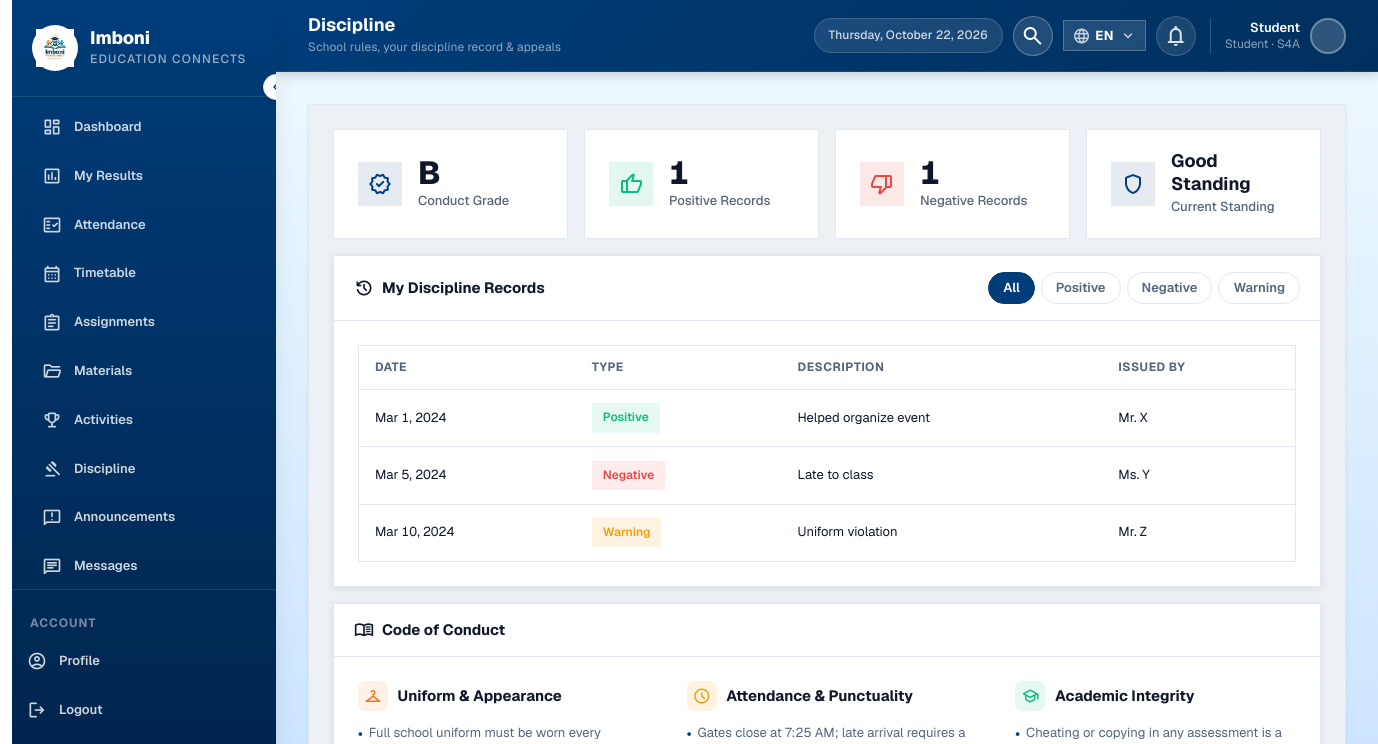
StudentDiscipline › filters records by type when a filter tab is clicked
This screenshot has width=1378, height=744.
expect the text "Helped organize event" is shown: met, box [782, 389, 1102, 447]
Step 1. Click the button "Positive" → {"x": 1081, "y": 288}, box [1041, 272, 1121, 304]
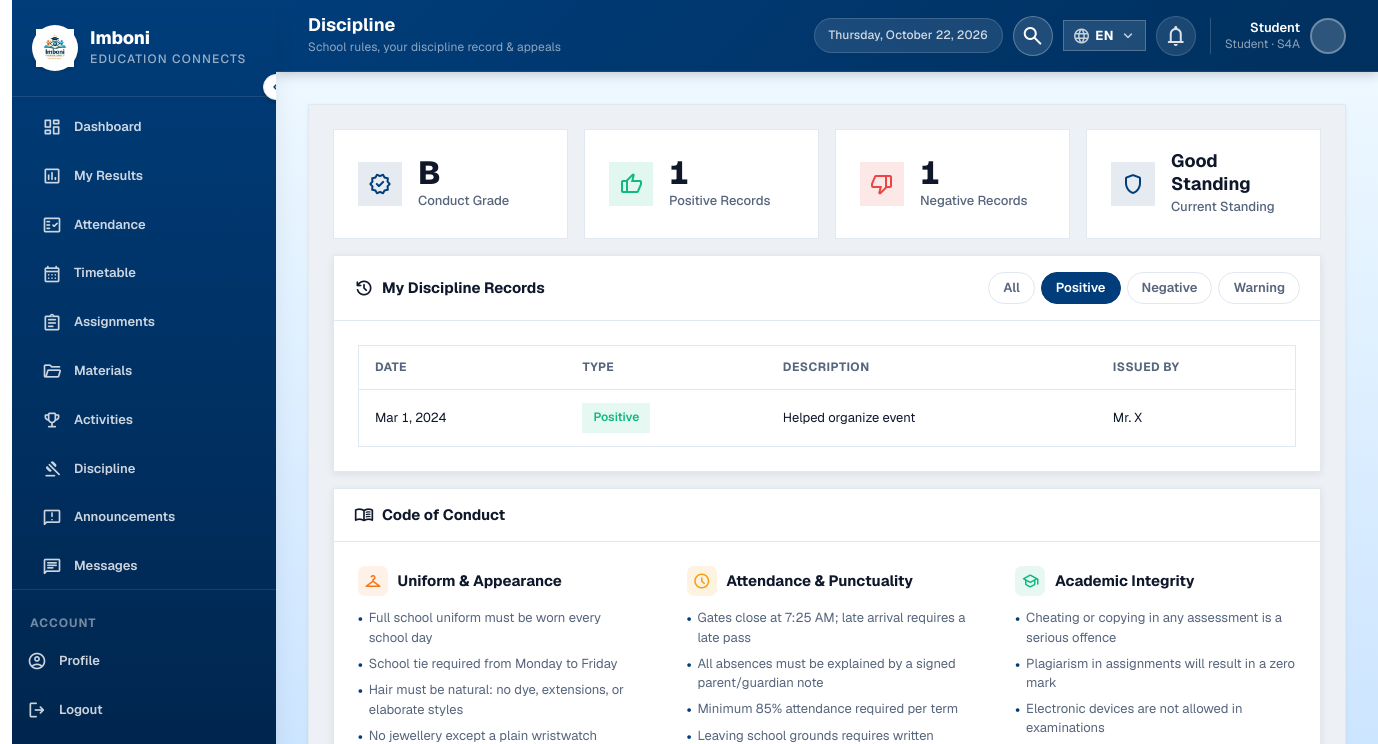
expect the text "Helped organize event" is shown: met, box [767, 389, 1097, 446]
expect the text "Late to class" is gone: met
expect the text "Uniform violation" is gone: met
